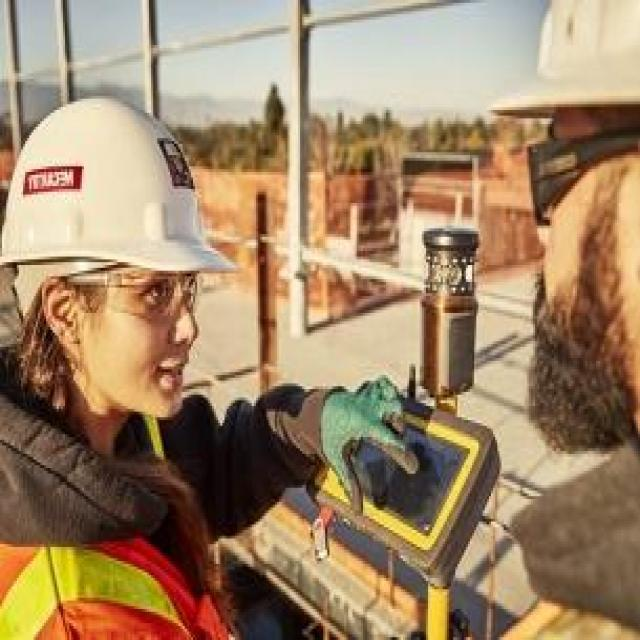reflective_jacket: (2, 414, 241, 639)
safety_helmet: (2, 90, 239, 287), (484, 0, 639, 129)
